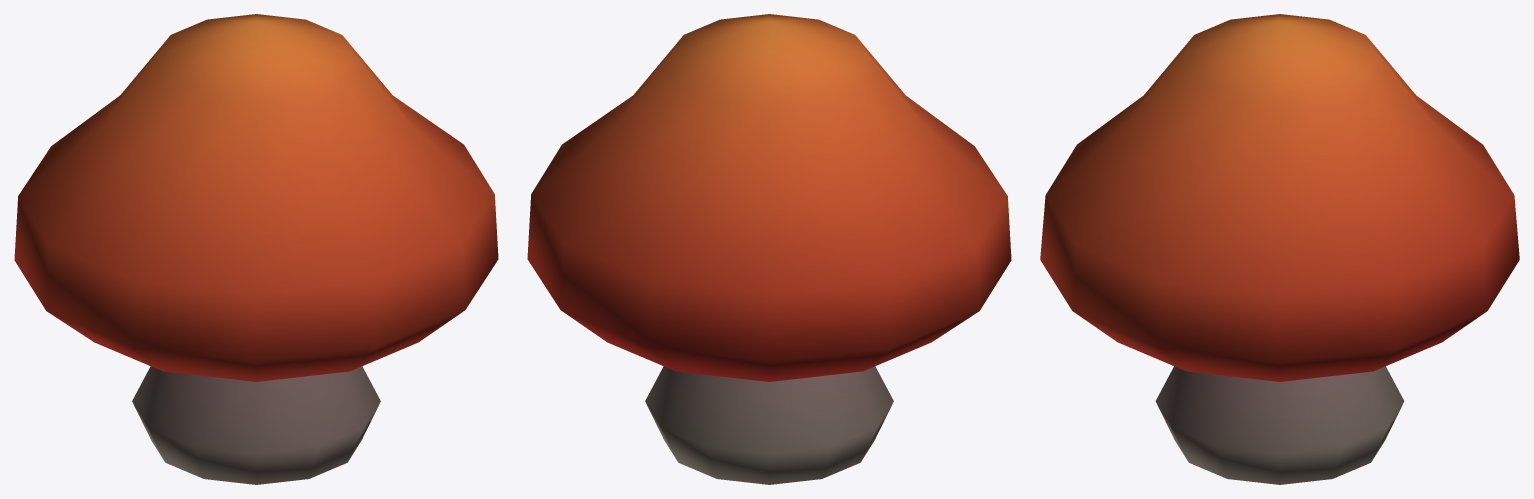
Rendered from largeMushroom_PH.fbx.
3 views of the same model, side by side, from view 1: azimuth 30°, elevation 25°; view 2: azimuth 150°, elevation 25°; view 3: azimuth 270°, elevation 25° (orthographic).
Visible parts, largest first — view 1: SM_LargeMushroom; view 2: SM_LargeMushroom; view 3: SM_LargeMushroom.
Boxes of the visible parts, bbox=[...] form: SM_LargeMushroom: bbox=[14, 14, 498, 484]; SM_LargeMushroom: bbox=[527, 14, 1011, 484]; SM_LargeMushroom: bbox=[1040, 14, 1519, 484].
Bounding box in the file's own units: 130 × 124 × 128.
